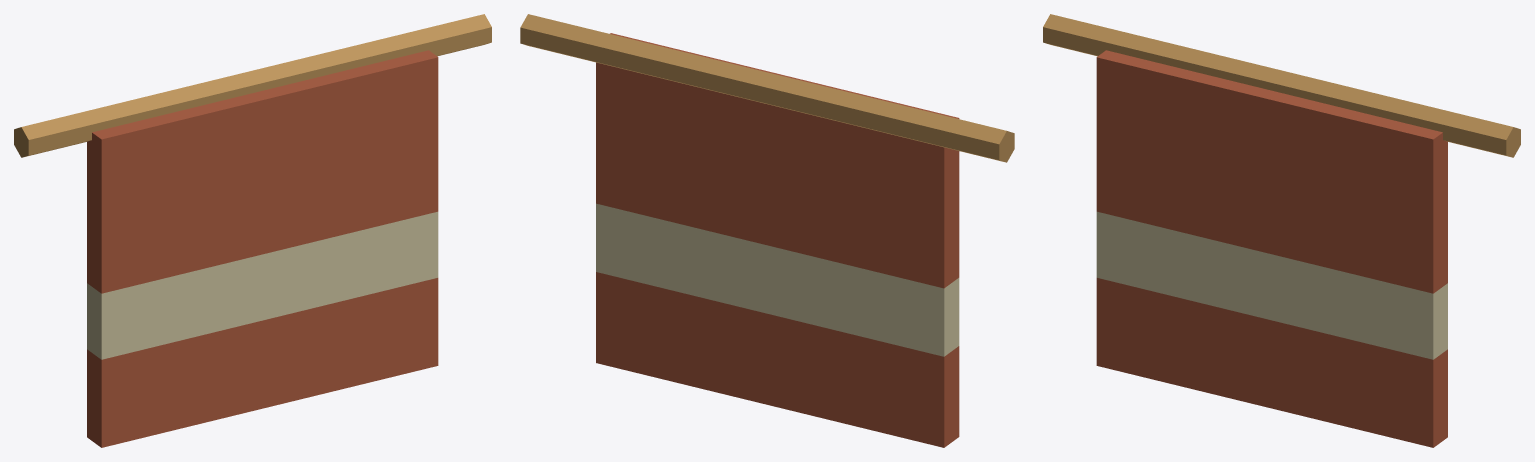
File: towel.glb
3 renders of one model, left to right at view 1: azimuth 30°, elevation 25°; view 2: azimuth 150°, elevation 25°; view 3: azimuth 330°, elevation 25°, orthographic. The views are drawn at different scales.
Visible parts, largest first — view 1: T1, T3, T2, Rail; view 2: T1, T3, T2, Rail; view 3: T1, T3, T2, Rail.
Part boxes in pixels (box(x1,y1,x2,y2)): T1: box(87, 50, 438, 293); T3: box(87, 278, 438, 447); T2: box(87, 211, 438, 359); Rail: box(14, 14, 491, 157); T1: box(596, 33, 959, 288); T3: box(596, 272, 959, 447); T2: box(596, 203, 959, 356); Rail: box(520, 14, 1014, 162); T1: box(1096, 50, 1447, 293); T3: box(1096, 278, 1447, 447); T2: box(1096, 211, 1447, 359); Rail: box(1043, 14, 1520, 157).
Bounding box in the file's own units: 2.2 × 1.47 × 0.2006.
